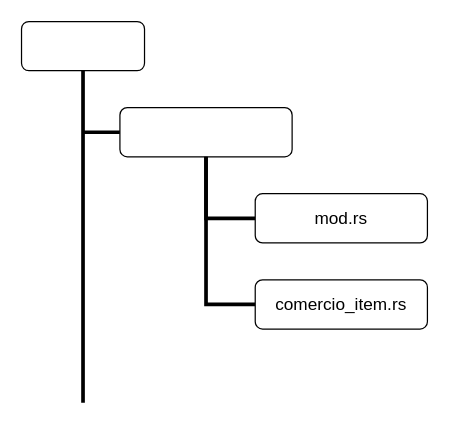
The diagram is 449 pixels wide and 427 high, and some of its shapes have lost their labels. Here are the shapes that lost their labels. From the top down, the centre of each, then its label:
[82,45]: src
[205,131]: json_serializacion
